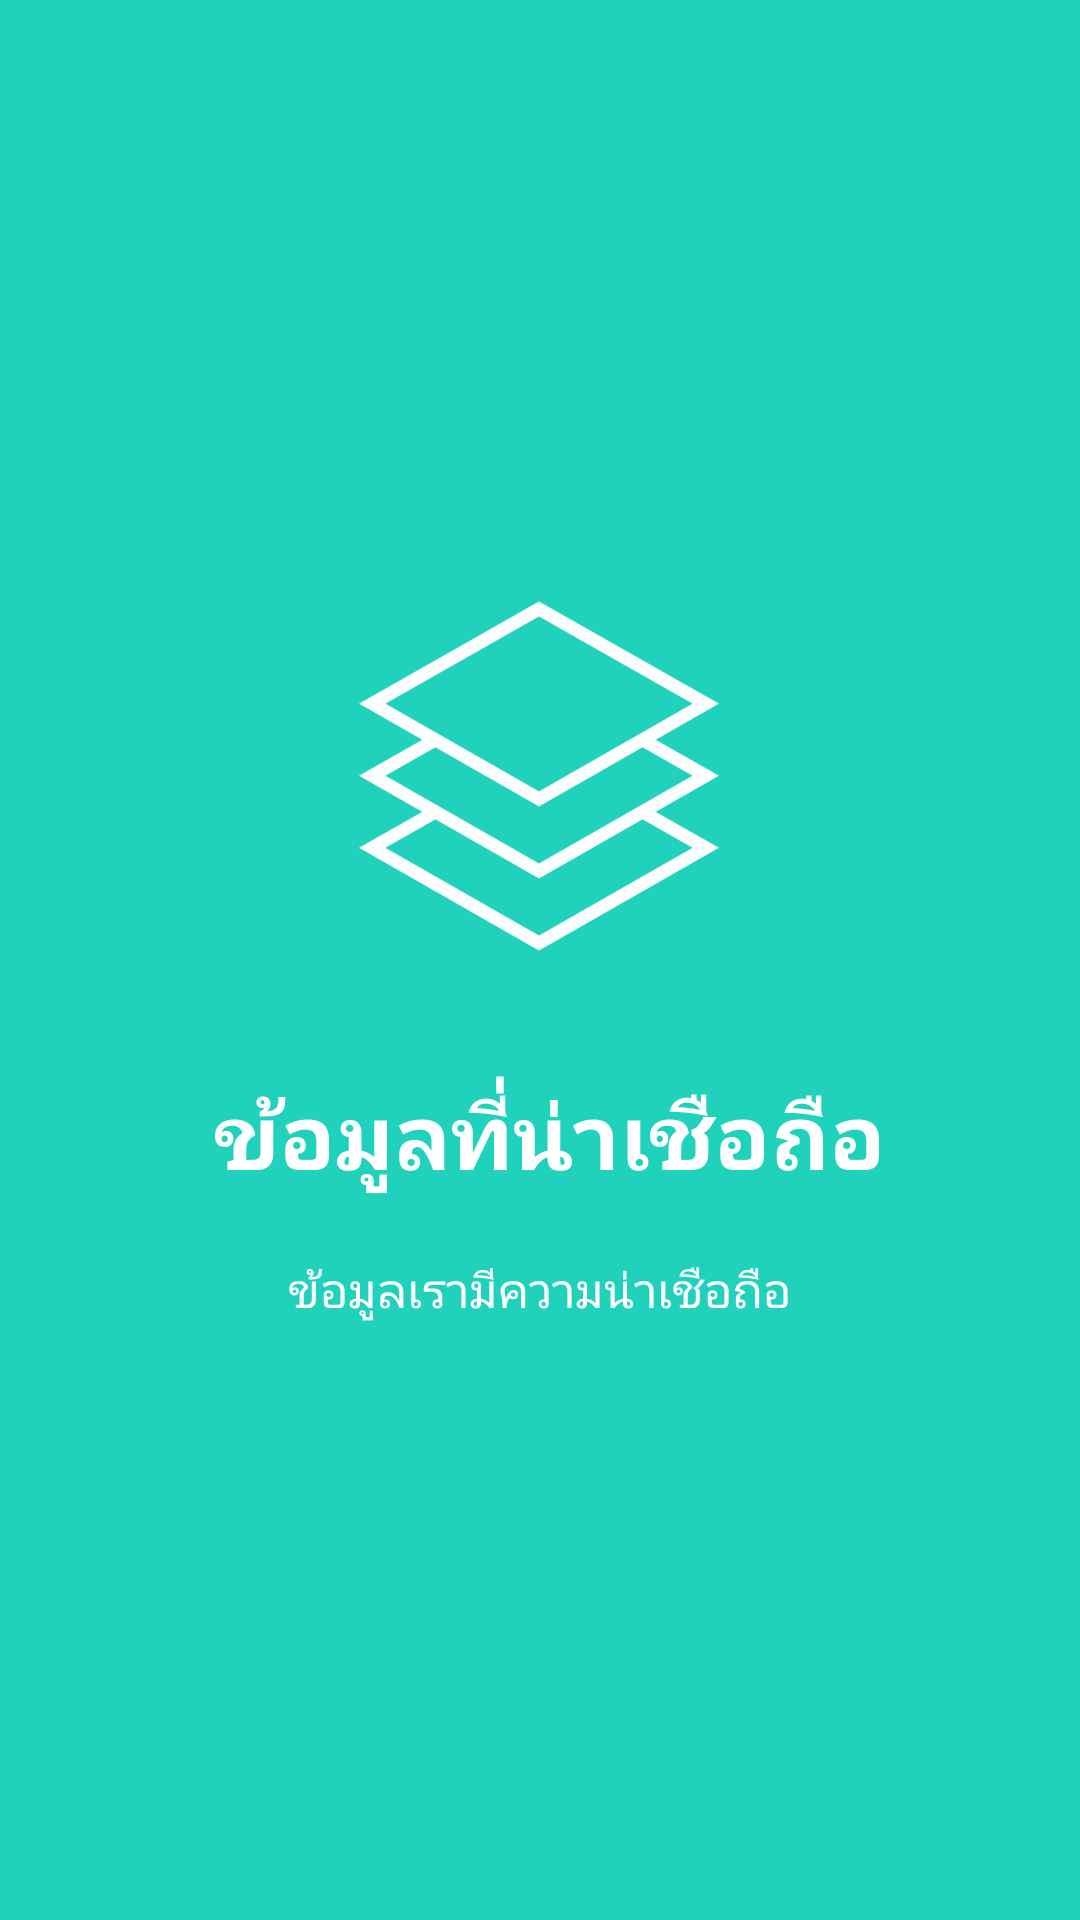

Named icons in this screenshot (1080px×1920px) and their centers, point (x, y):
layers: point (539, 776)
